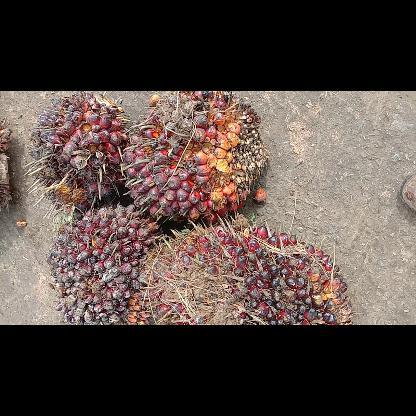Kurang masak: (140, 210, 356, 324), (49, 200, 167, 324)
TBS masak: (124, 92, 270, 228), (28, 91, 132, 216)
